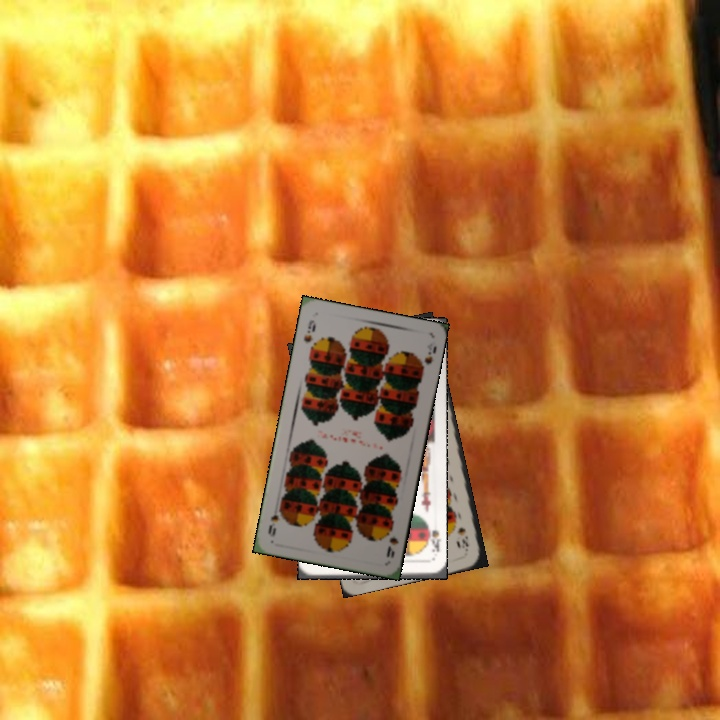S10: (455, 523, 471, 554)
S9: (382, 521, 401, 561), (299, 316, 318, 345)
SK: (422, 522, 442, 555)
